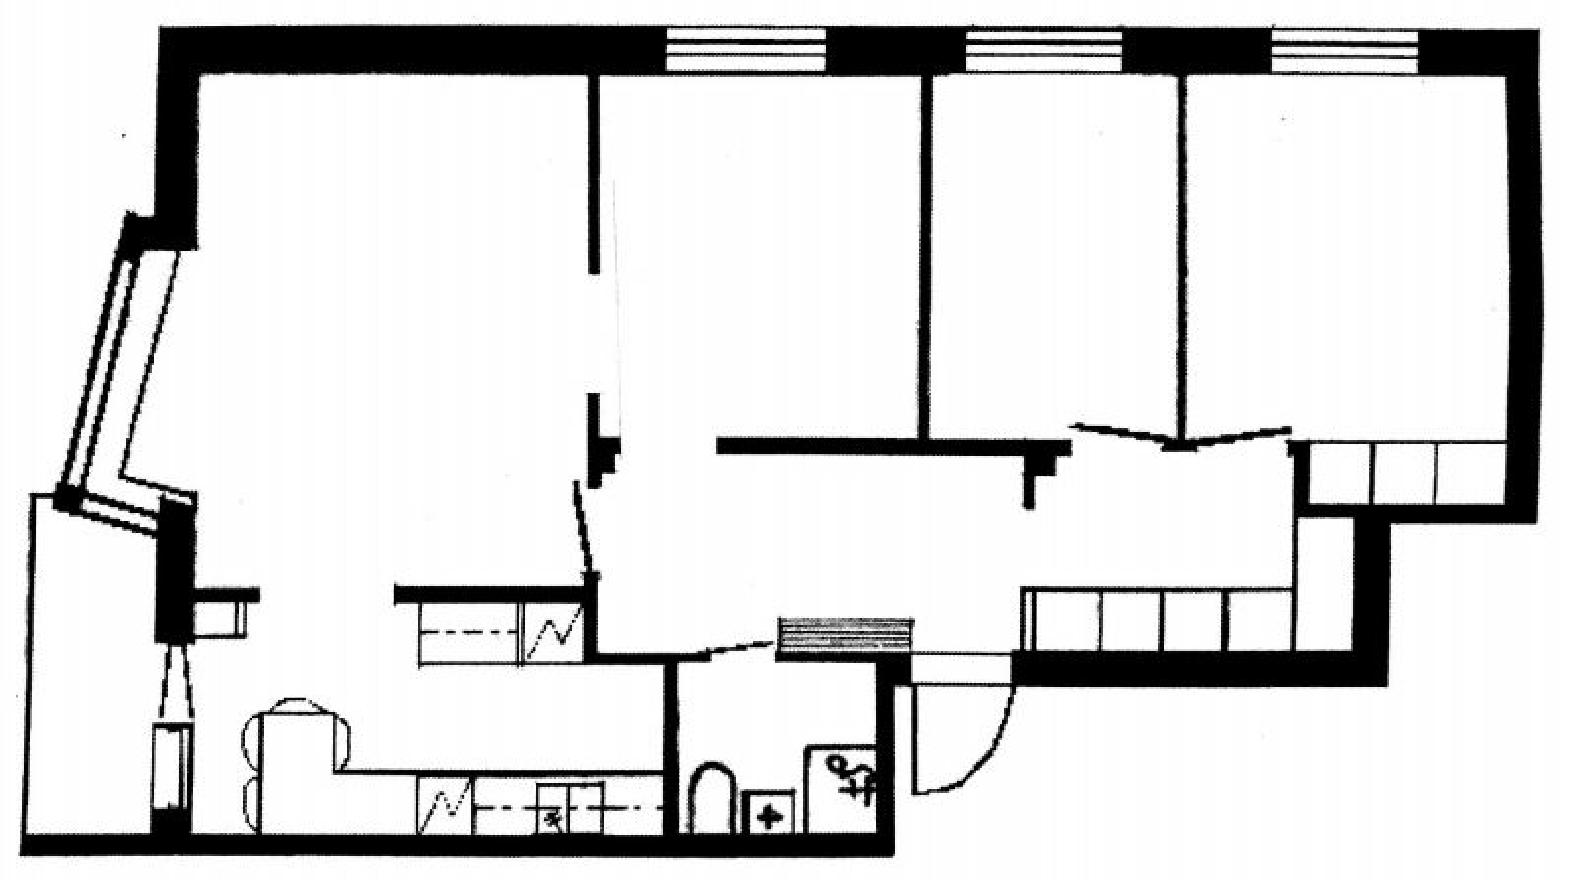door: (130, 66, 599, 591), (1185, 62, 1507, 506), (596, 66, 927, 441), (188, 596, 661, 835), (933, 67, 1183, 443), (604, 442, 1036, 642), (1038, 444, 1364, 667), (33, 495, 177, 832), (674, 662, 875, 831), (908, 652, 1018, 803), (1058, 417, 1174, 462), (567, 478, 607, 588), (673, 626, 776, 666), (1184, 420, 1295, 453), (155, 647, 202, 726)
zone: (665, 27, 826, 77), (1272, 28, 1419, 78), (963, 29, 1119, 71)
